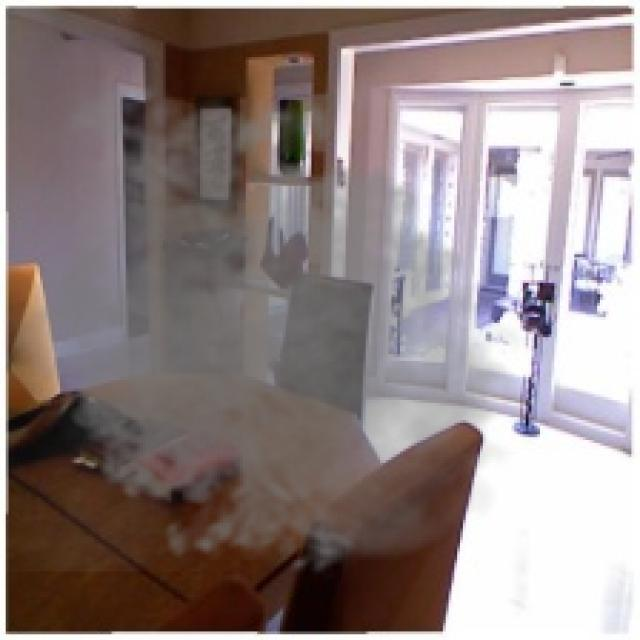smoke: (6, 68, 537, 583)
